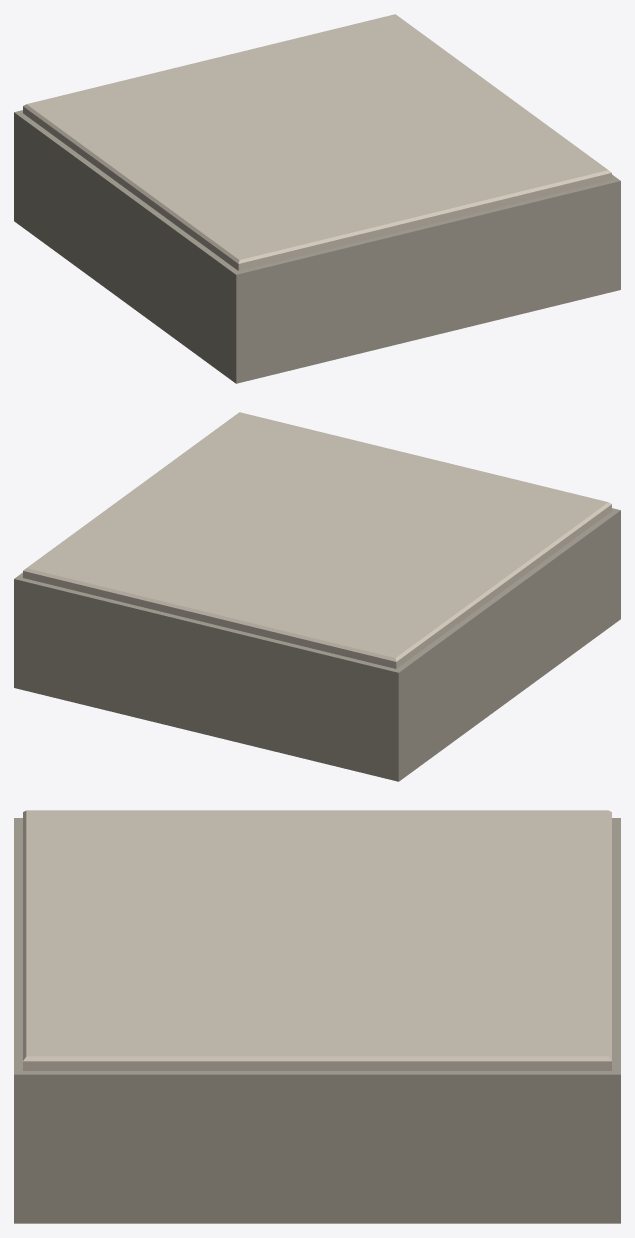
File: tile_courtyard.glb
3 views of the same model, one above another, from view 1: azimuth 30°, elevation 25°; view 2: azimuth 150°, elevation 25°; view 3: azimuth 270°, elevation 25° (orthographic). The views are drawn at different scales.
Visible parts, largest first — view 1: co_cap, co_body; view 2: co_cap, co_body; view 3: co_cap, co_body.
Boxes of the visible parts, x1,y1,x2,y2 form: co_cap: (23,14,611,270); co_body: (14,110,620,383); co_cap: (23,412,611,668); co_body: (14,508,620,781); co_cap: (23,810,611,1070); co_body: (14,818,620,1223).
Size of the model in its own units: 1.7 by 0.5 by 1.7.
